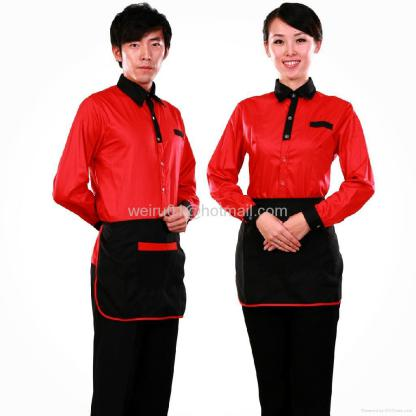face: (268, 12, 315, 82), (123, 22, 167, 86)
